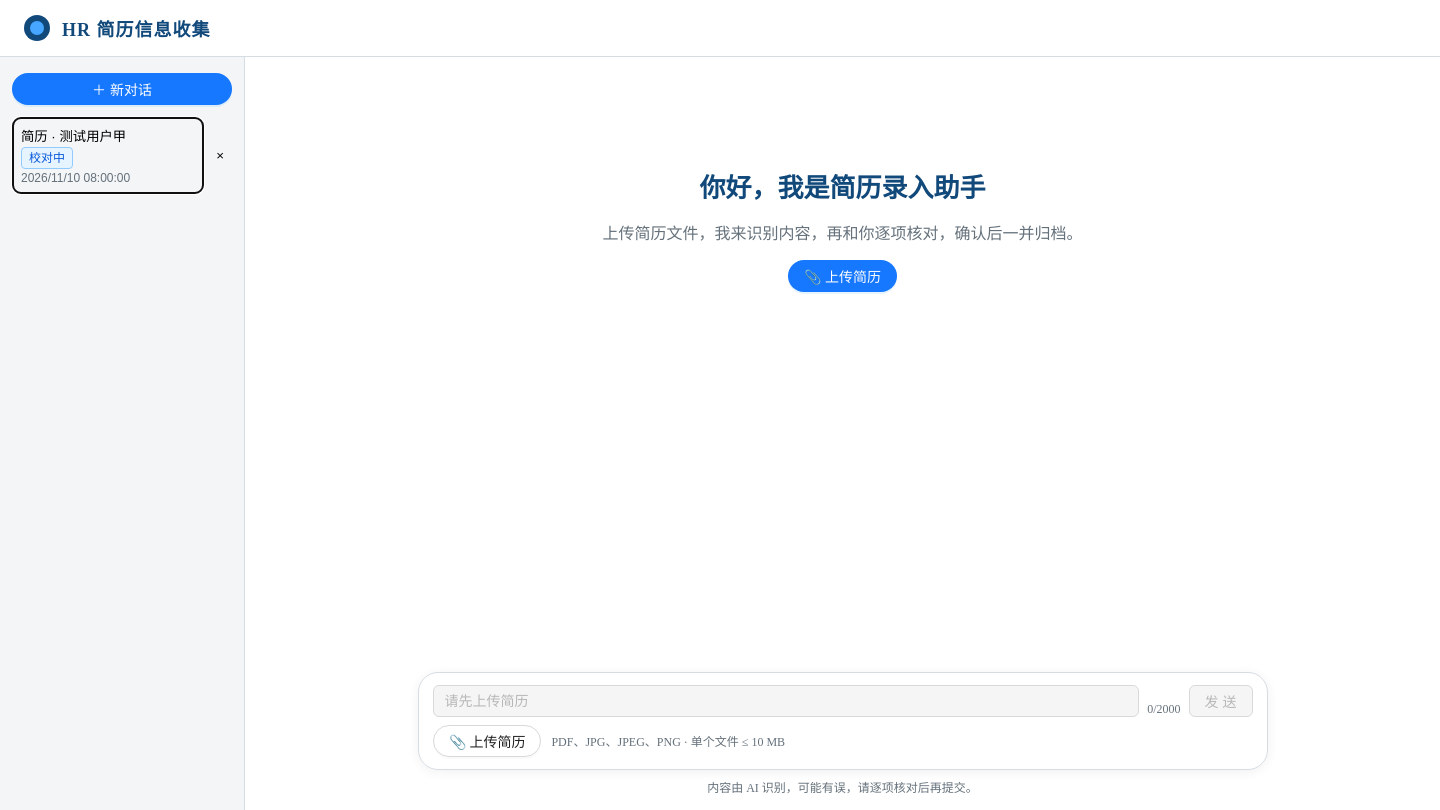
Test: focus management (TD-13, TD-31) › a new chat message gets the focus
Press Enter
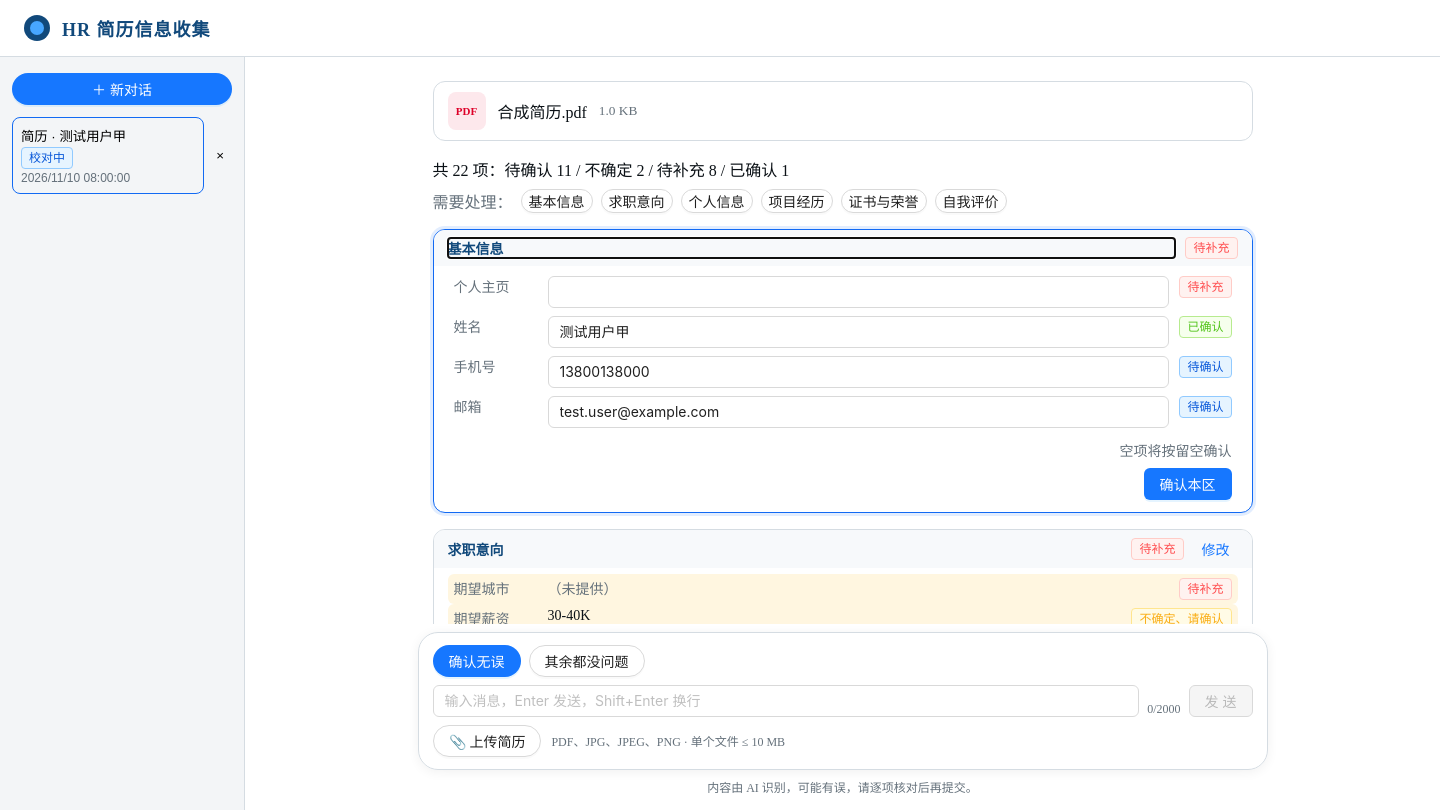
Now the heading "基本信息" is shown, box [448,242,504,257]
Type "你好" into the text box named "对话输入" at (786, 701), box [432,685,1139,717]
Then press Enter
(page scrolled)
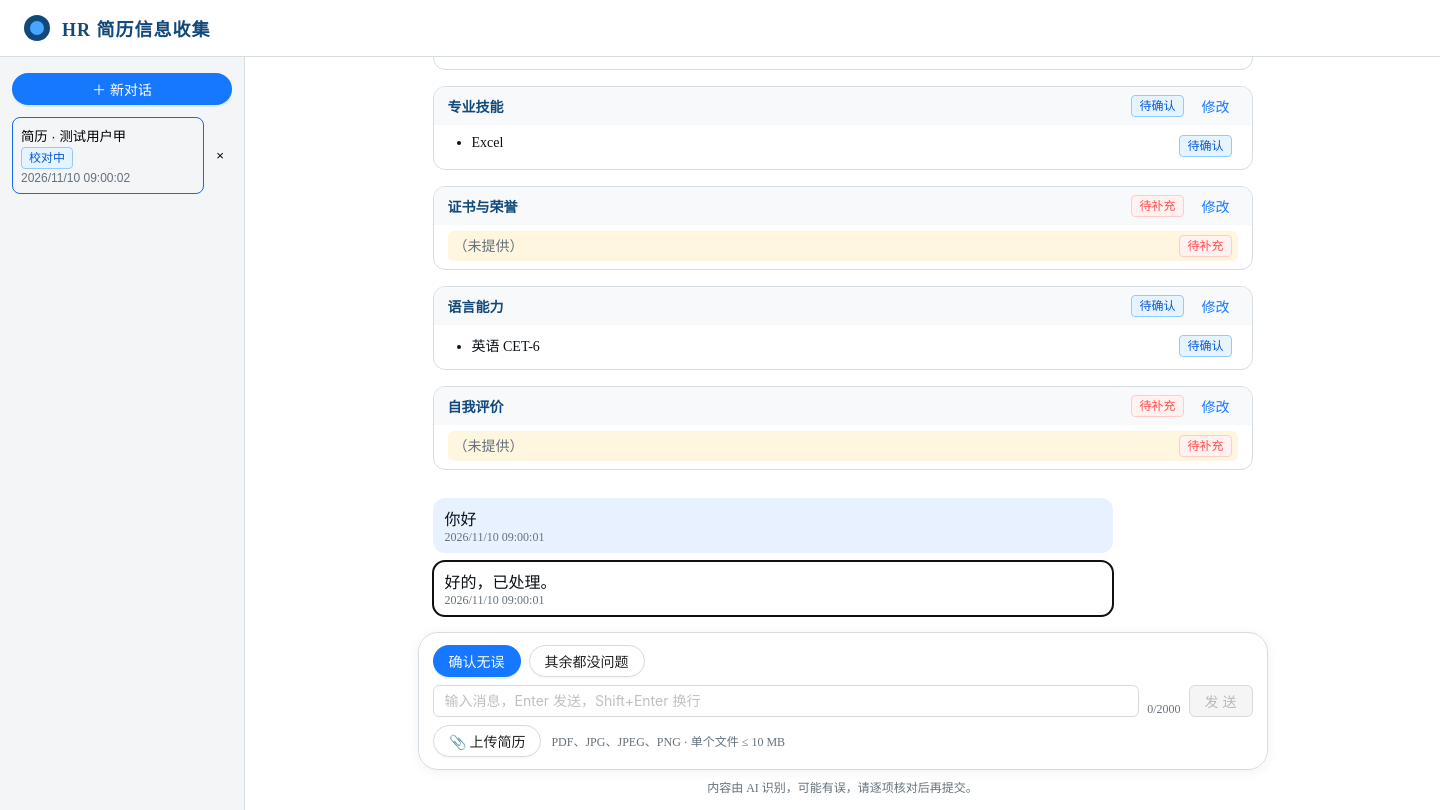
Now the text "好的，已处理。" is shown, box [444,574,556,591]
